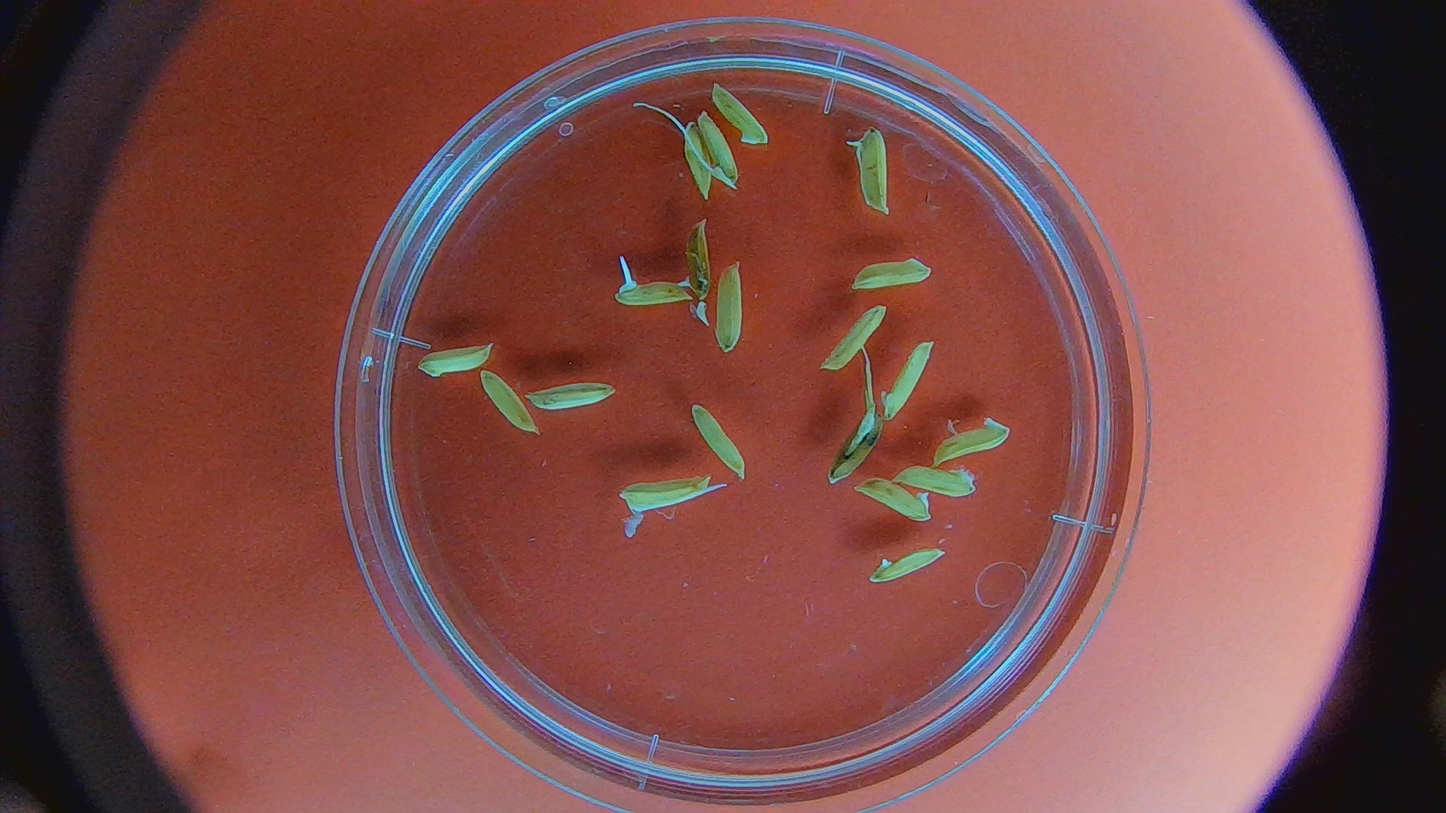no: (877, 336, 937, 424), (706, 78, 773, 150), (823, 303, 887, 373), (691, 402, 748, 476), (934, 417, 1010, 467), (480, 371, 538, 432), (856, 477, 932, 522), (854, 254, 932, 293), (898, 464, 978, 502), (873, 546, 945, 588), (713, 263, 743, 354), (418, 343, 494, 378), (526, 382, 617, 410), (683, 122, 712, 193)
yes: (829, 410, 882, 486), (846, 126, 891, 214), (620, 472, 712, 513), (700, 111, 743, 187), (676, 218, 715, 297), (615, 274, 691, 308)
